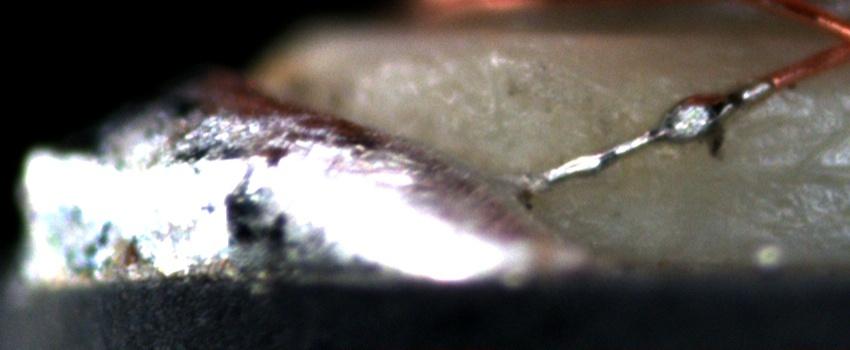DL: (684, 147, 850, 199)
TB: (654, 87, 726, 145)
TS: (547, 79, 771, 182)
TTCW: (527, 47, 828, 199)
